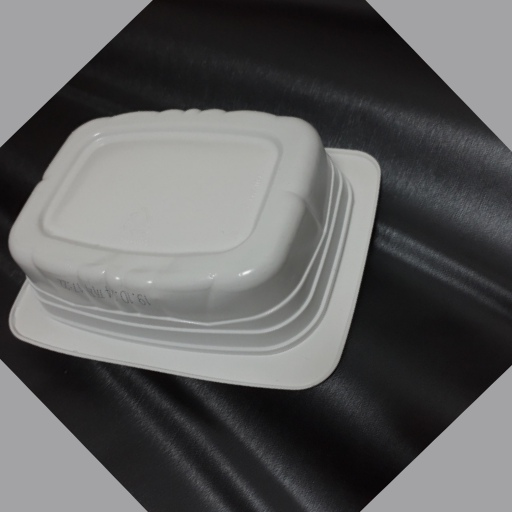Plastic_4: (9, 107, 382, 390)
